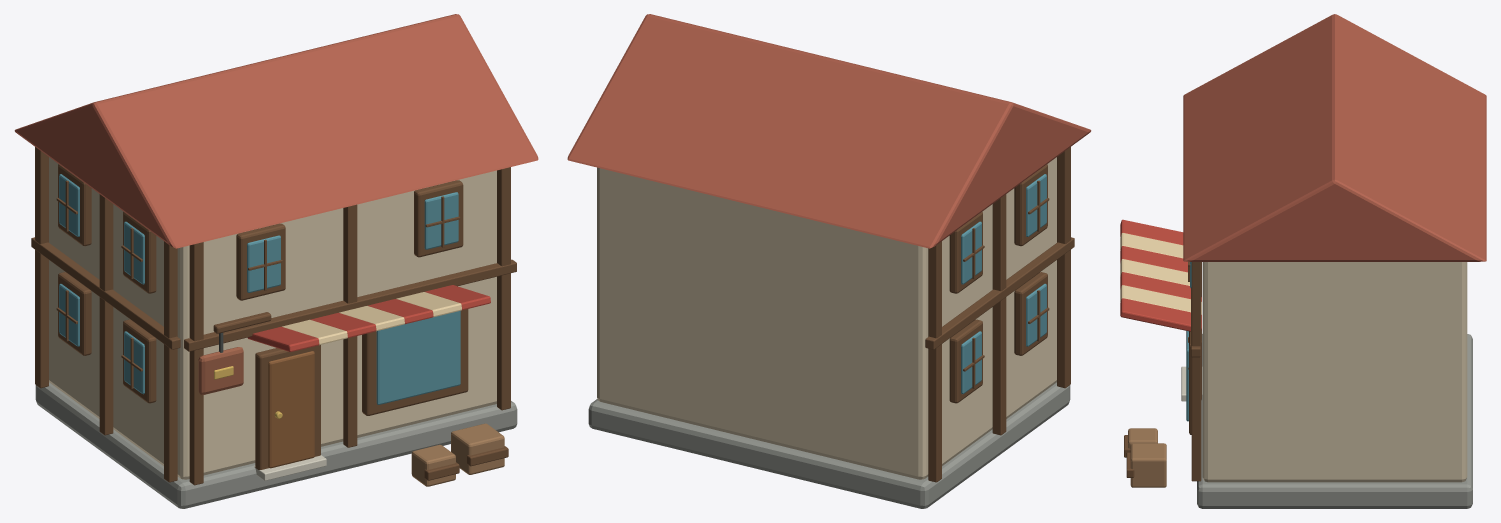
The model's file is temperate-shop-0.glb.
3 views of the same model, side by side, from view 1: azimuth 30°, elevation 25°; view 2: azimuth 150°, elevation 25°; view 3: azimuth 270°, elevation 25° (orthographic). The views are drawn at different scales.
Parts seen in each view (by area): view 1: Clay tiles, Ivory plaster, Dark beams, Blue glass, Foundation stone, Door oak, Market red cloth, Aged oak, Market cream cloth, Painted sign, Cut limestone; view 2: Ivory plaster, Clay tiles, Dark beams, Foundation stone, Blue glass; view 3: Clay tiles, Ivory plaster, Foundation stone, Market red cloth, Dark beams, Market cream cloth, Aged oak.
Boxes of the visible parts, x1,y1,x2,y2 form: Clay tiles: (14, 14, 538, 248); Ivory plaster: (49, 157, 496, 479); Dark beams: (31, 147, 516, 485); Blue glass: (59, 174, 460, 404); Foundation stone: (35, 382, 517, 508); Door oak: (268, 351, 314, 468); Market red cloth: (247, 285, 490, 352); Aged oak: (411, 423, 504, 486); Market cream cloth: (282, 292, 461, 345); Painted sign: (198, 347, 243, 394); Cut limestone: (254, 455, 326, 480); Ivory plaster: (597, 157, 1056, 479); Clay tiles: (567, 14, 1091, 248); Dark beams: (925, 147, 1074, 482); Foundation stone: (588, 382, 1070, 508); Blue glass: (961, 174, 1046, 394); Clay tiles: (1183, 14, 1486, 261); Ivory plaster: (1202, 262, 1467, 482); Foundation stone: (1197, 334, 1472, 508); Market red cloth: (1120, 219, 1201, 331); Dark beams: (1124, 261, 1201, 481); Market cream cloth: (1120, 233, 1201, 314); Aged oak: (1128, 428, 1166, 487).
Bounding box in the file's own units: 4.14 × 3.86 × 3.8.
